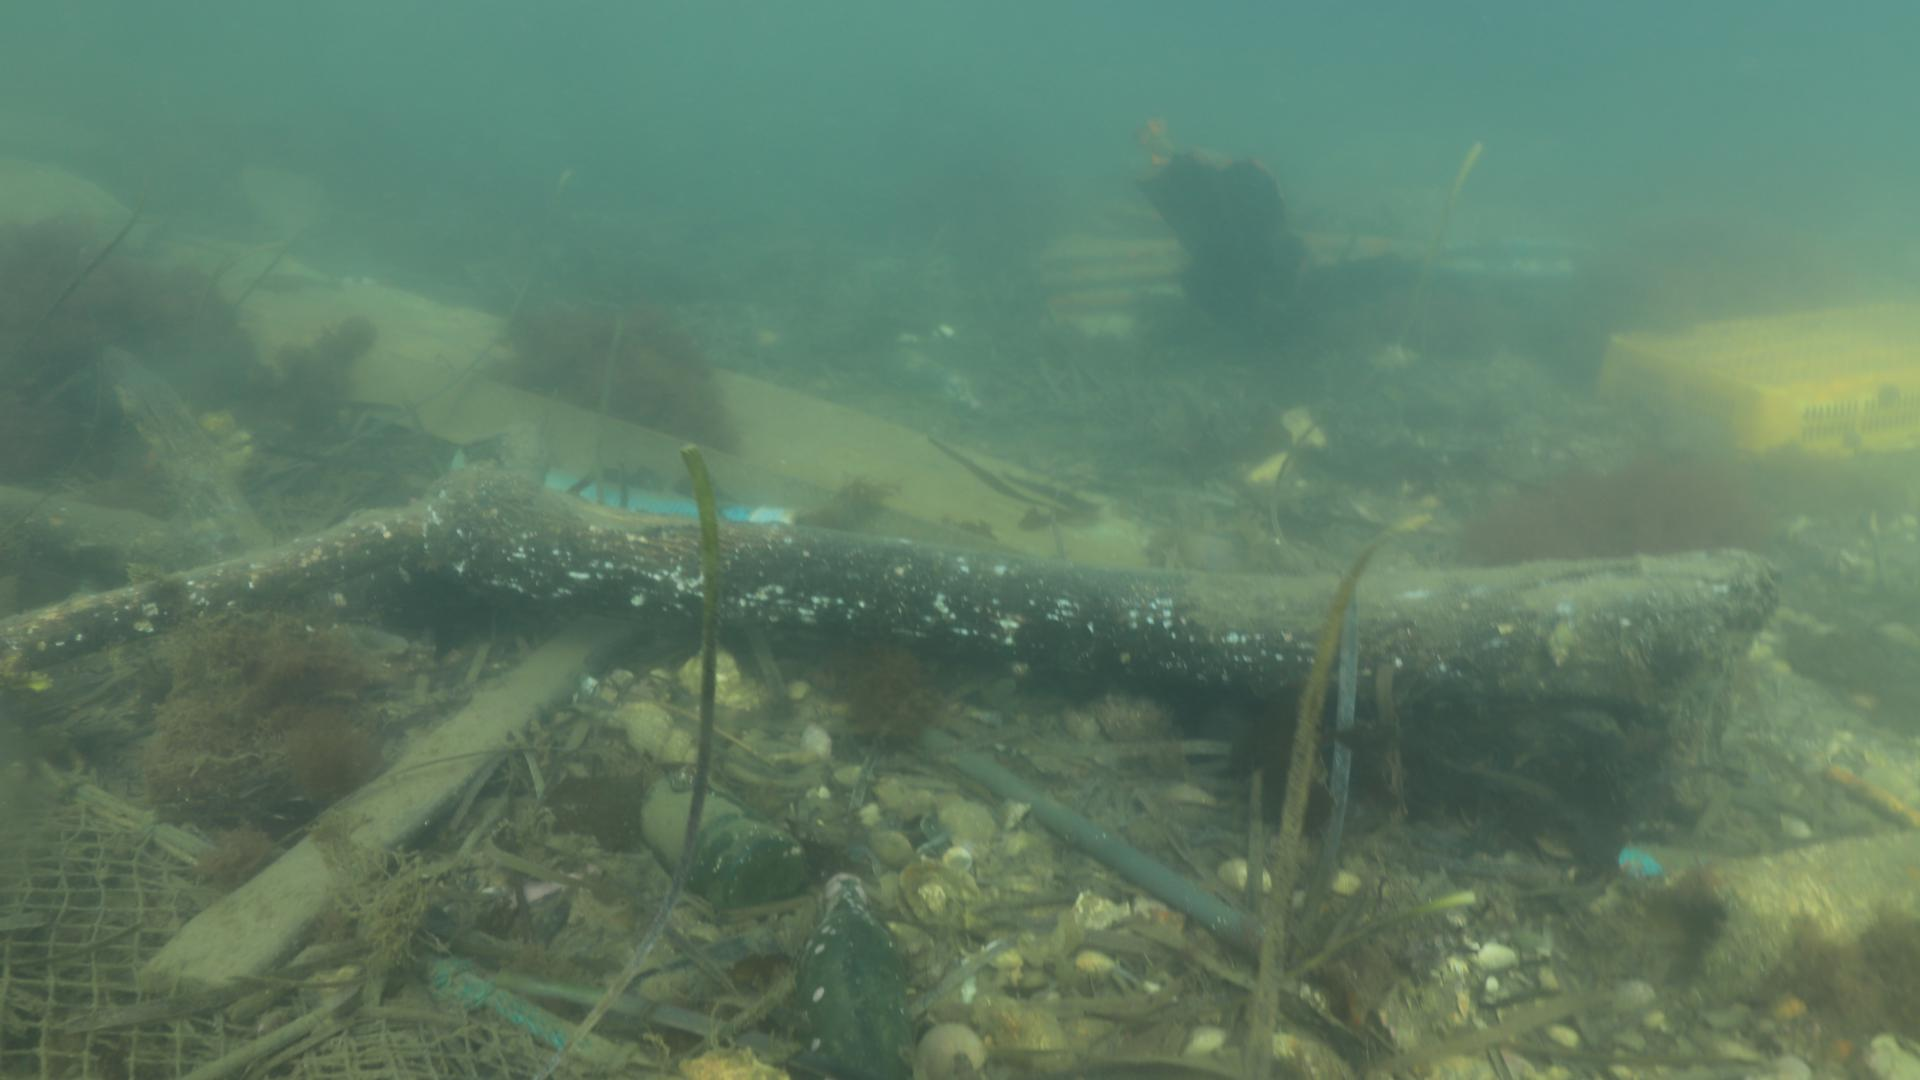wood: (0, 443, 1792, 742)
